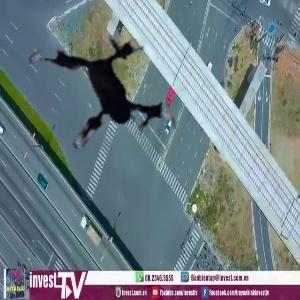drone: (8, 10, 191, 193)
